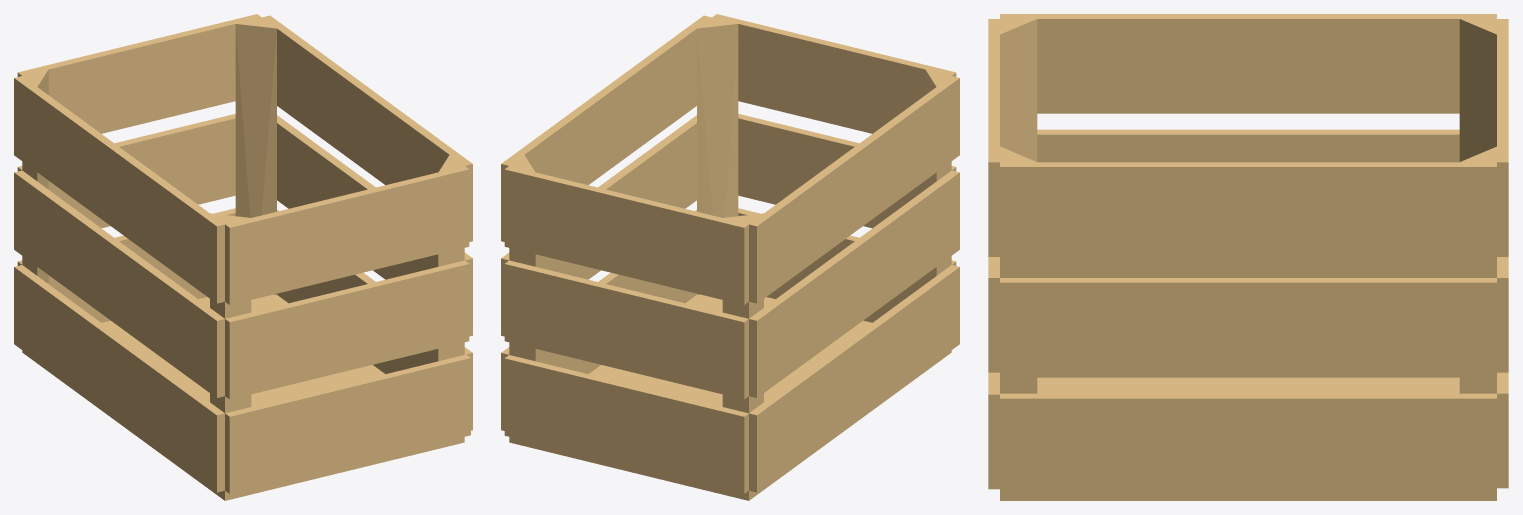
Rendered from crate.glb.
3 views of the same model, side by side, from view 1: azimuth 30°, elevation 25°; view 2: azimuth 150°, elevation 25°; view 3: azimuth 270°, elevation 25° (orthographic). The views are drawn at different scales.
Visible parts, largest first — view 1: group939885634, group27219902, group2074068477; view 2: group27219902, group939885634, group2074068477; view 3: group27219902, group939885634, group2074068477.
Part boxes in pixels (box(x1,y1,x2,y2)): group939885634: box(14, 69, 470, 493); group27219902: box(17, 14, 472, 430); group2074068477: box(22, 294, 464, 500); group27219902: box(501, 15, 748, 493); group939885634: box(712, 14, 959, 492); group2074068477: box(509, 294, 951, 500); group27219902: box(1000, 19, 1508, 493); group939885634: box(988, 14, 1496, 489); group2074068477: box(1000, 377, 1496, 500).
Size of the model in its own units: 1.56 by 1.61 by 2.24.
